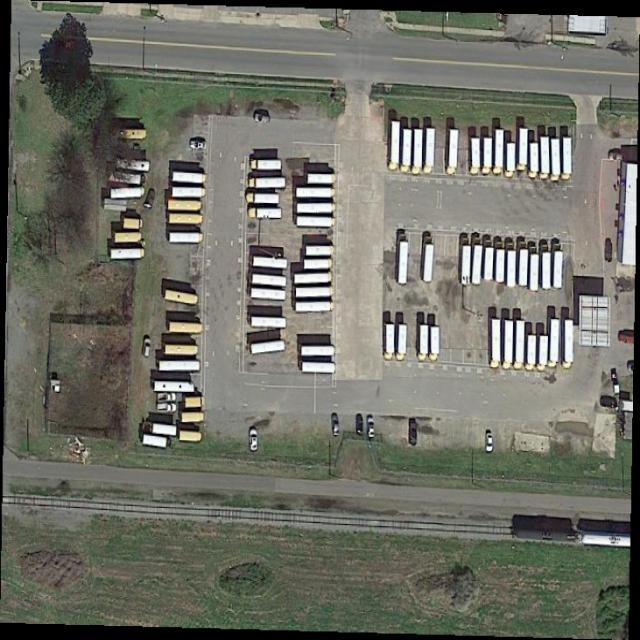large-vehicle: (517, 238, 530, 287), (539, 243, 552, 291), (295, 271, 333, 287), (116, 157, 150, 174), (448, 129, 460, 177), (390, 120, 401, 172), (564, 319, 575, 370), (461, 236, 472, 287), (549, 318, 560, 369), (295, 301, 334, 315), (251, 339, 285, 355), (296, 286, 334, 300), (296, 186, 334, 200), (425, 128, 436, 176), (165, 290, 200, 305), (399, 233, 409, 285), (249, 176, 286, 190), (540, 136, 552, 179), (473, 236, 483, 287), (528, 246, 539, 292), (504, 319, 514, 369), (506, 243, 517, 288), (159, 360, 200, 372), (492, 319, 502, 368), (515, 321, 525, 370), (172, 171, 207, 185), (402, 129, 413, 173), (518, 129, 529, 173), (297, 216, 334, 229), (298, 201, 335, 214), (155, 381, 194, 393), (250, 288, 286, 301), (111, 186, 144, 200), (111, 128, 149, 140), (253, 257, 288, 270), (252, 274, 287, 287), (553, 244, 563, 289), (110, 171, 144, 184), (563, 137, 573, 181), (251, 158, 282, 172), (424, 234, 433, 282), (484, 239, 494, 282), (172, 185, 205, 198), (143, 435, 173, 449), (552, 139, 562, 181), (482, 139, 493, 177), (496, 239, 505, 285), (496, 130, 505, 176), (246, 192, 280, 204), (165, 345, 199, 357), (169, 231, 203, 243), (111, 248, 145, 260), (252, 317, 286, 329), (419, 324, 430, 361), (414, 130, 423, 175), (471, 136, 481, 176), (167, 200, 200, 212), (306, 244, 334, 258), (303, 362, 335, 374), (527, 335, 537, 373), (397, 324, 407, 362), (115, 231, 142, 245), (307, 173, 336, 186), (248, 208, 282, 219), (386, 324, 396, 361), (302, 346, 335, 357), (171, 322, 203, 333), (169, 214, 202, 224), (431, 328, 440, 363), (507, 144, 516, 179), (539, 335, 547, 373), (305, 260, 332, 271), (531, 144, 538, 179), (122, 219, 144, 230), (186, 396, 206, 408), (179, 431, 202, 441), (182, 412, 205, 422)
small-vehicle: (143, 189, 158, 209), (408, 419, 418, 447), (600, 395, 620, 409), (156, 391, 177, 404), (189, 137, 207, 151), (605, 236, 614, 263), (142, 337, 153, 359), (484, 430, 495, 452), (248, 428, 258, 451), (367, 414, 376, 439), (156, 403, 178, 413), (331, 413, 340, 437), (255, 112, 271, 125), (357, 413, 364, 436)
